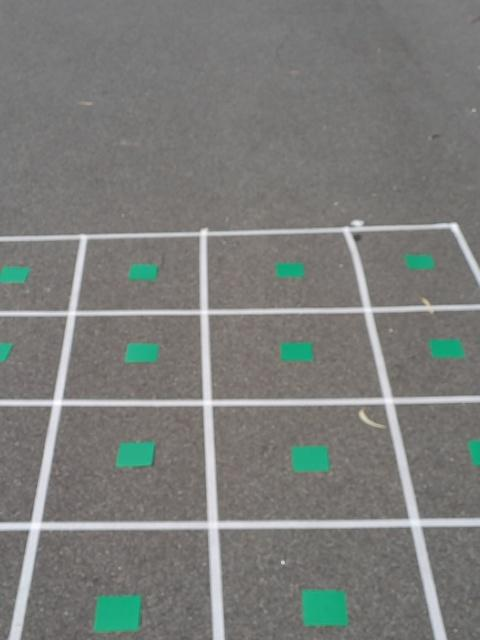weed: (301, 584, 353, 630), (90, 592, 143, 636), (286, 444, 332, 474), (114, 441, 158, 468), (429, 338, 467, 360), (280, 340, 316, 363), (125, 342, 161, 363), (275, 260, 307, 280), (127, 263, 161, 281), (0, 266, 32, 285), (404, 253, 439, 270), (467, 437, 480, 465), (0, 342, 14, 364)
